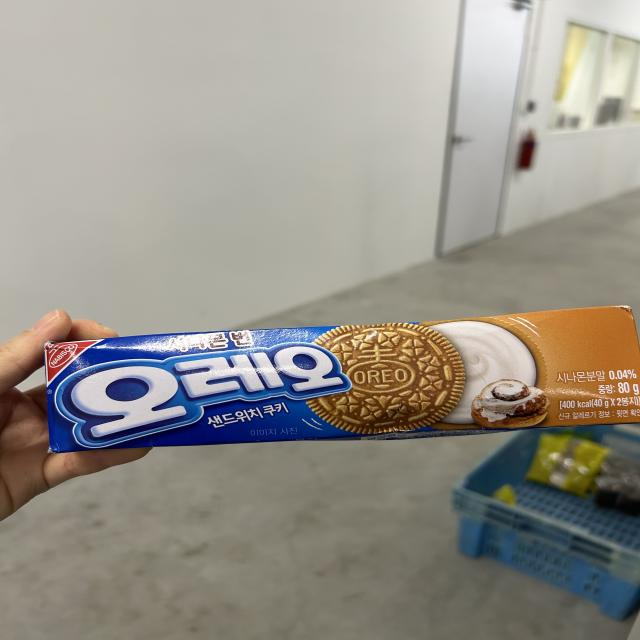object_name: (34, 340, 640, 435)
